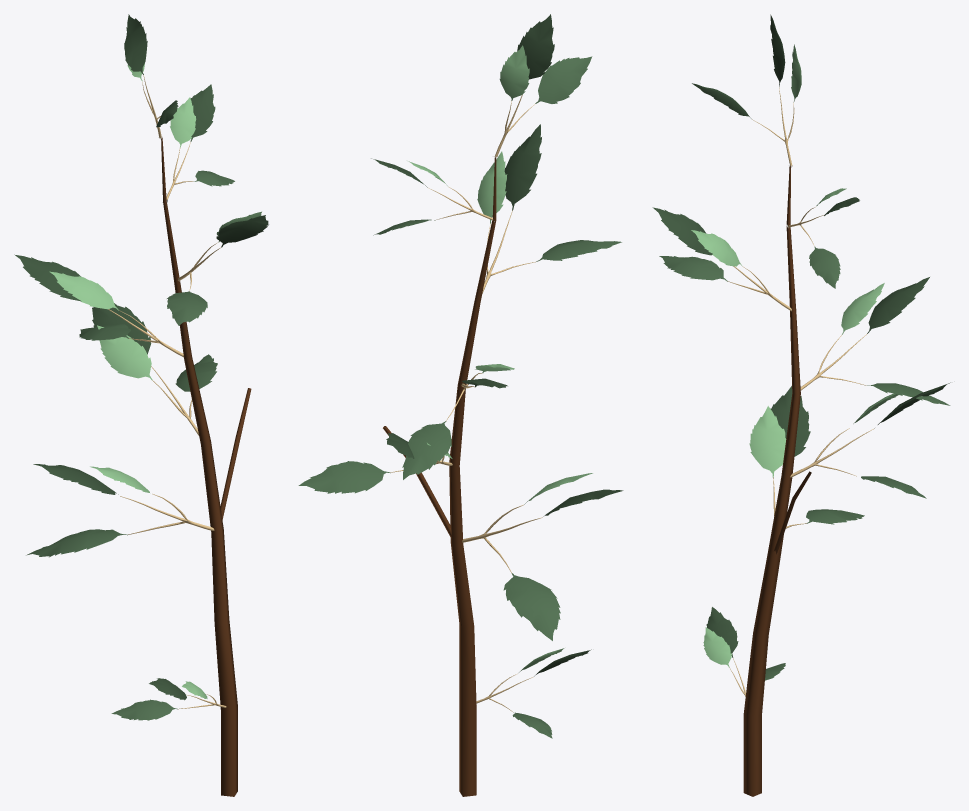
Rendered from Tree9.fbx.
3 renders of one model, left to right at view 1: azimuth 30°, elevation 25°; view 2: azimuth 150°, elevation 25°; view 3: azimuth 270°, elevation 25°, orthographic. The views are drawn at different scales.
Parts seen in each view (by area): view 1: Árbol.002, Hojas|tree|Dupli|4, Hojas|tree|Dupli|, Hojas|tree|Dupli|5, Hojas|tree|Dupli|3, Hojas|tree|Dupli|2, Hojas|tree|Dupli|6, Hojas|tree|Dupli|1; view 2: Árbol.002, Hojas|tree|Dupli|1, Hojas|tree|Dupli|2, Hojas|tree|Dupli|5, Hojas|tree|Dupli|, Hojas|tree|Dupli|4, Hojas|tree|Dupli|6, Hojas|tree|Dupli|3; view 3: Árbol.002, Hojas|tree|Dupli|5, Hojas|tree|Dupli|2, Hojas|tree|Dupli|, Hojas|tree|Dupli|1, Hojas|tree|Dupli|6, Hojas|tree|Dupli|4, Hojas|tree|Dupli|3.
Boxes of the visible parts, x1,y1,x2,y2 form: Árbol.002: (161,137,251,796); Hojas|tree|Dupli|4: (92,303,217,435); Hojas|tree|Dupli|: (14,254,183,357); Hojas|tree|Dupli|5: (26,464,214,557); Hojas|tree|Dupli|3: (166,84,234,199); Hojas|tree|Dupli|2: (167,211,268,325); Hojas|tree|Dupli|6: (111,678,226,720); Hojas|tree|Dupli|1: (124,14,178,138); Árbol.002: (383,157,496,796); Hojas|tree|Dupli|1: (495,14,592,156); Hojas|tree|Dupli|2: (477,124,621,293); Hojas|tree|Dupli|5: (462,473,623,640); Hojas|tree|Dupli|: (402,364,514,479); Hojas|tree|Dupli|4: (298,433,452,493); Hojas|tree|Dupli|6: (476,648,591,738); Hojas|tree|Dupli|3: (371,158,492,235); Árbol.002: (743,166,811,796); Hojas|tree|Dupli|5: (749,386,864,528); Hojas|tree|Dupli|2: (652,207,791,311); Hojas|tree|Dupli|: (800,277,950,405); Hojas|tree|Dupli|1: (692,14,801,165); Hojas|tree|Dupli|6: (703,607,785,696); Hojas|tree|Dupli|4: (790,382,950,498); Hojas|tree|Dupli|3: (788,188,859,288).
Size of the model in its own units: 102 by 311 by 116.
